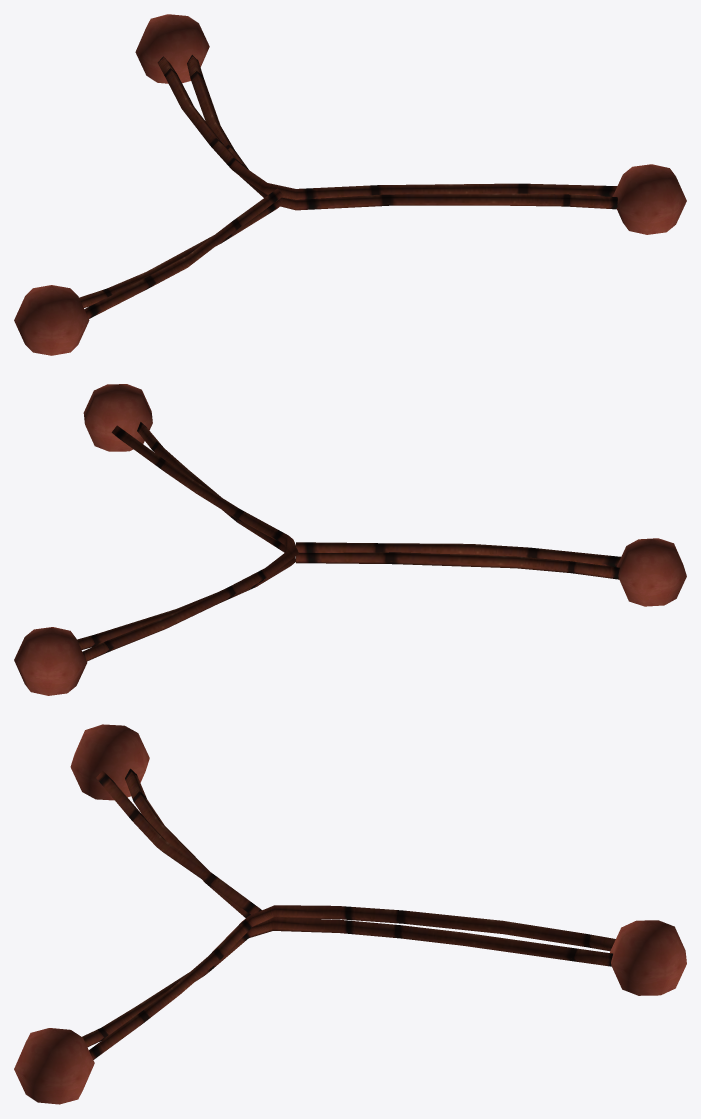
Rendered from bola.glb.
3 views of the same model, one above another, from view 1: azimuth 30°, elevation 25°; view 2: azimuth 150°, elevation 25°; view 3: azimuth 270°, elevation 25° (orthographic). The views are drawn at different scales.
Parts seen in each view (by area): view 1: bola_0; view 2: bola_0; view 3: bola_0.
Part boxes in pixels (box(x1,y1,x2,y2)): bola_0: box(14, 14, 686, 355); bola_0: box(14, 384, 686, 695); bola_0: box(14, 724, 686, 1104).
Bounding box in the file's own units: 36.24 × 3.72 × 30.55.
1 material, 1 textured.
